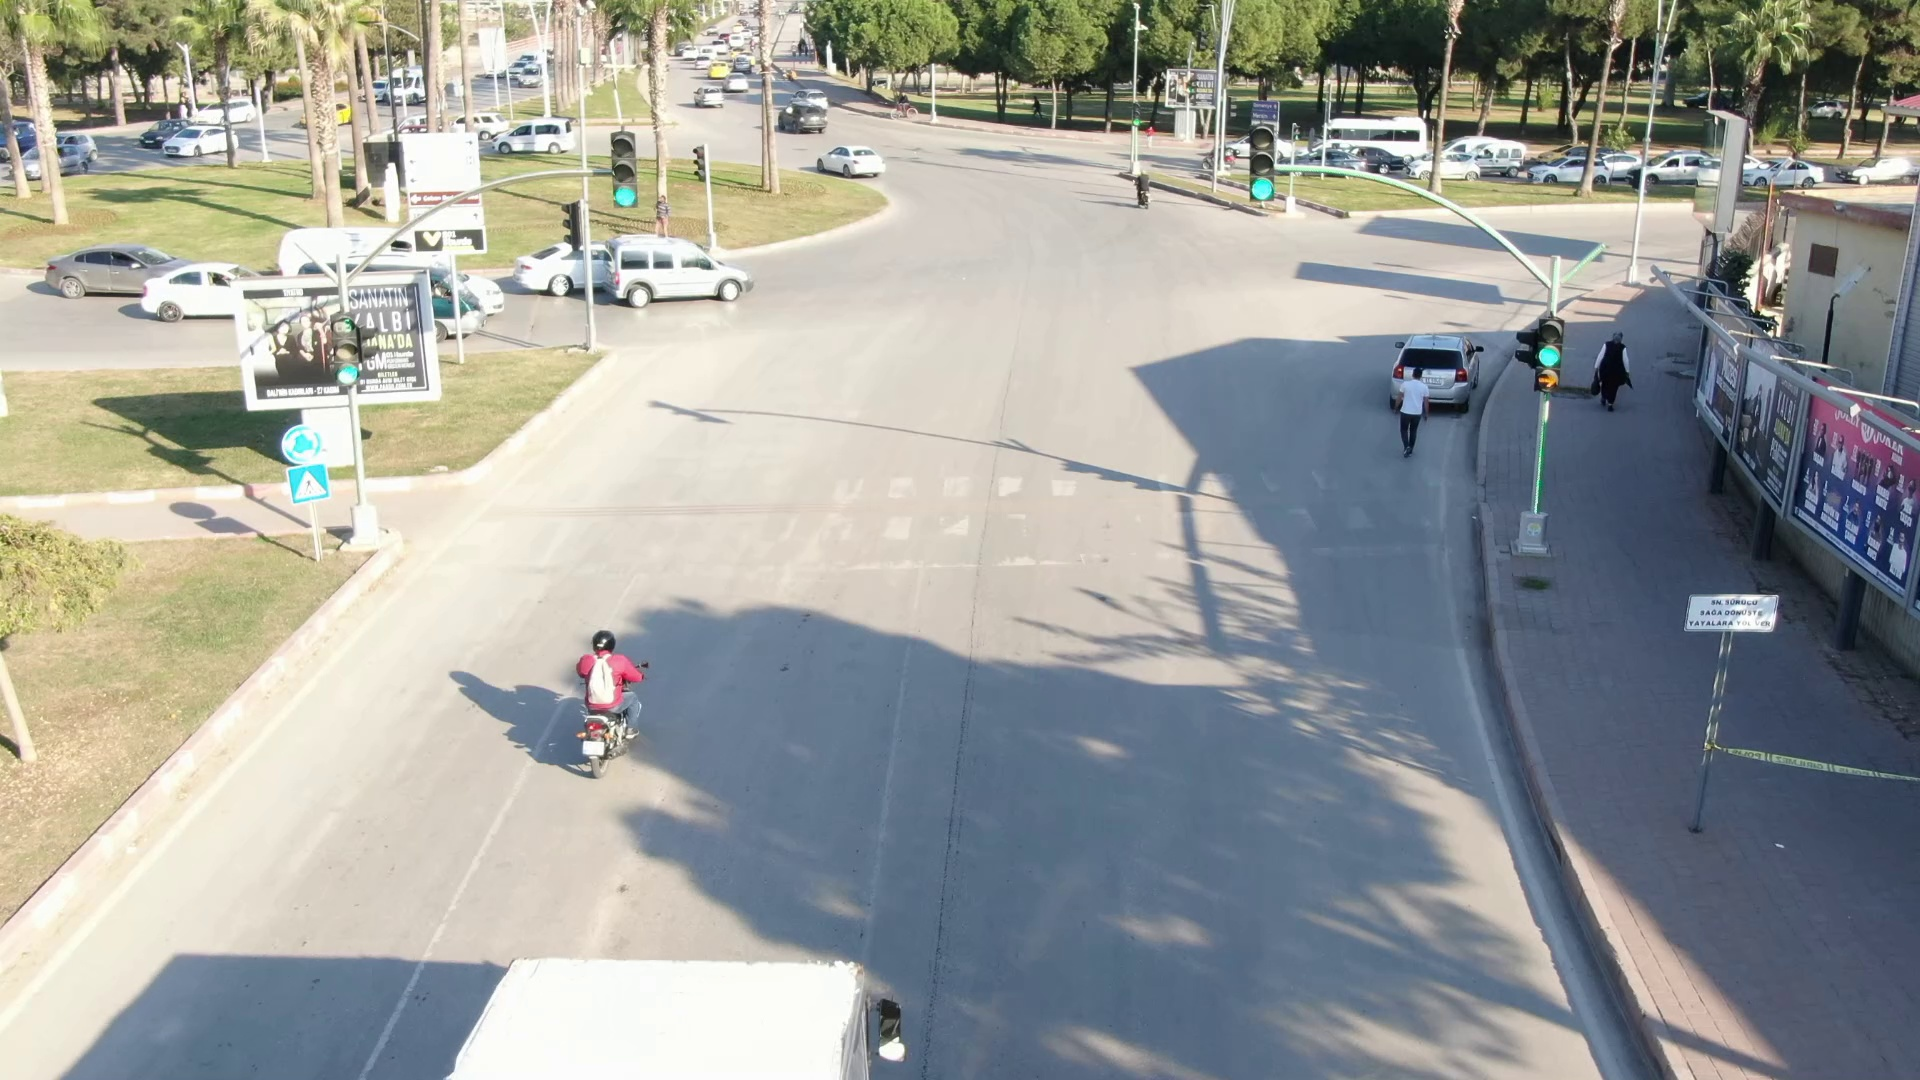car: (599, 223, 760, 313), (810, 133, 896, 184), (772, 88, 834, 142), (690, 79, 727, 113)
person: (553, 596, 665, 736), (1587, 322, 1636, 417), (1394, 360, 1440, 460), (650, 190, 679, 235)
